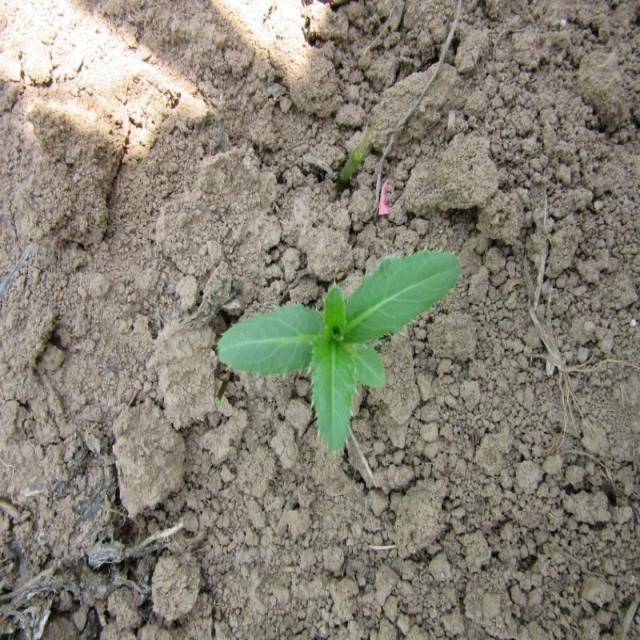field_thistle: (197, 219, 458, 463)
